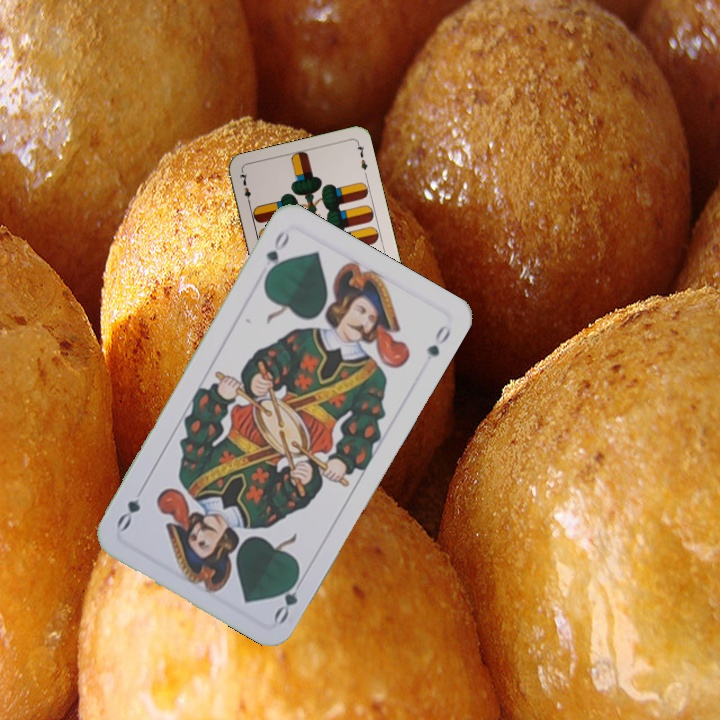E7: (235, 168, 253, 208)
GO: (269, 568, 308, 626), (261, 226, 292, 282)
